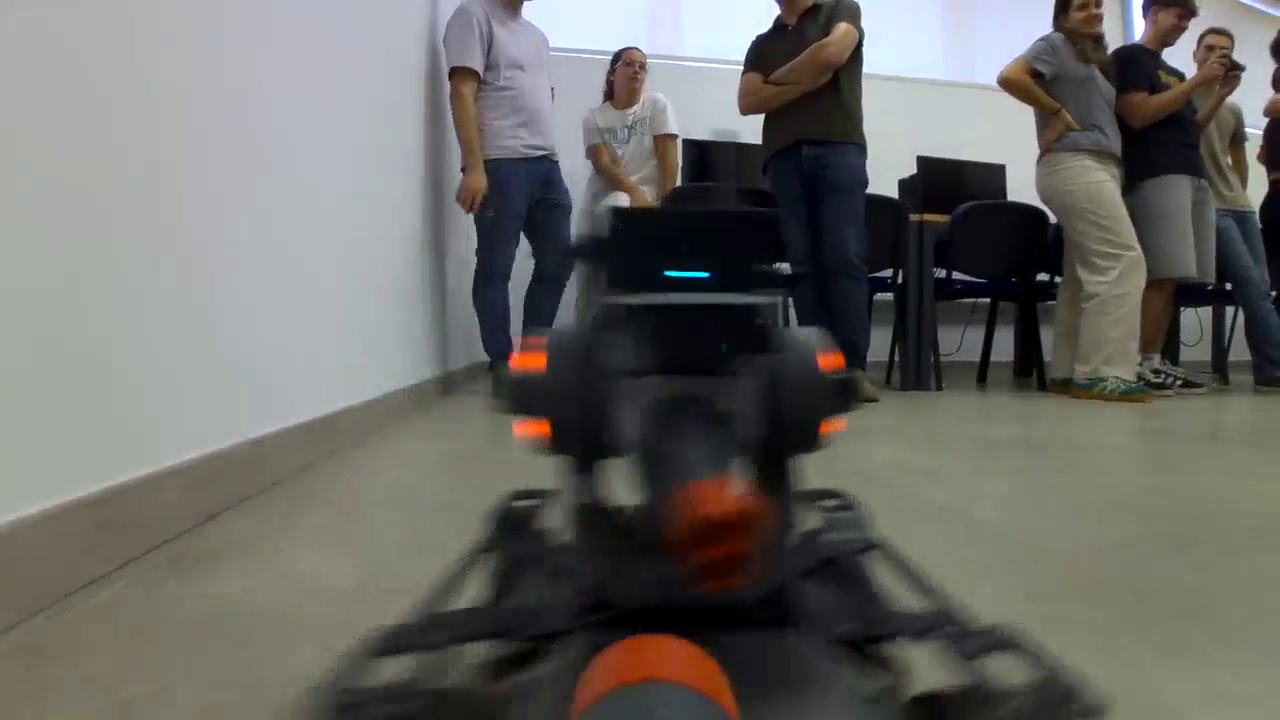robot: (397, 321, 990, 715)
